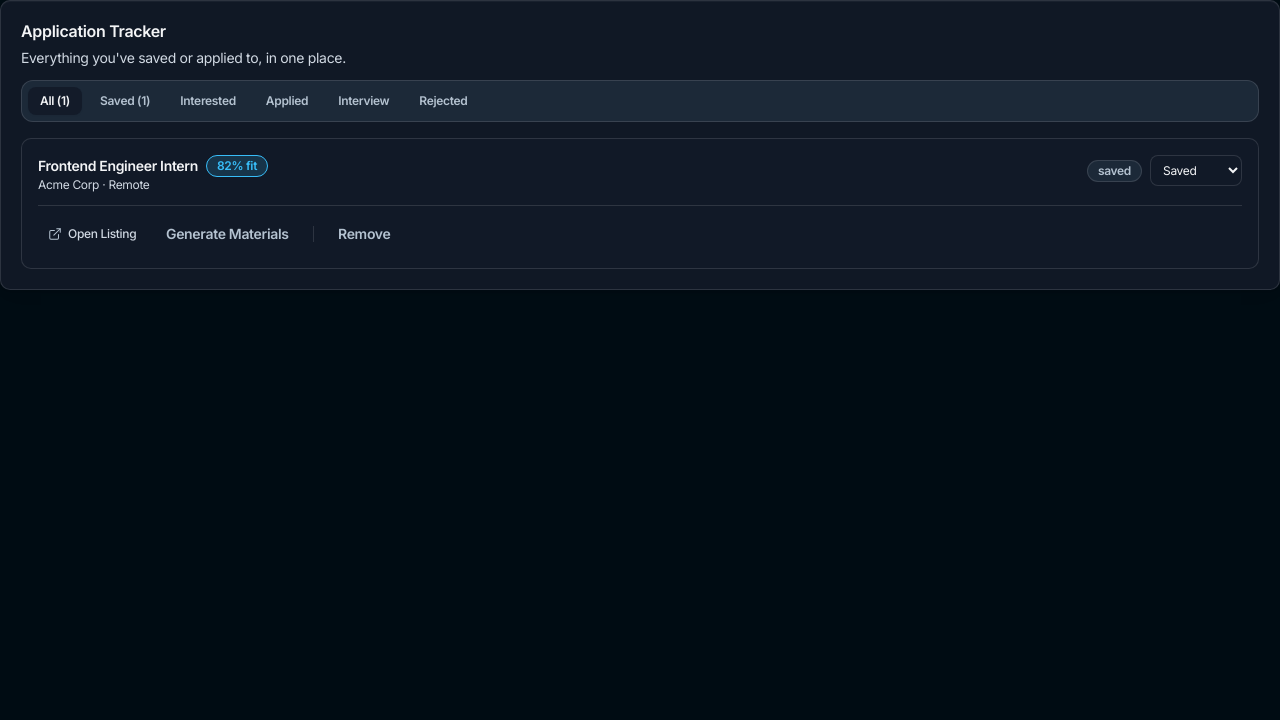
Test: JobAgentTrackerPage › shows an error toast when generating materials fails
Expected: the text "Frontend Engineer Intern" is shown, [38,156,198,176]
Click the button "Generate Materials": (228, 234) [150,216,305,252]
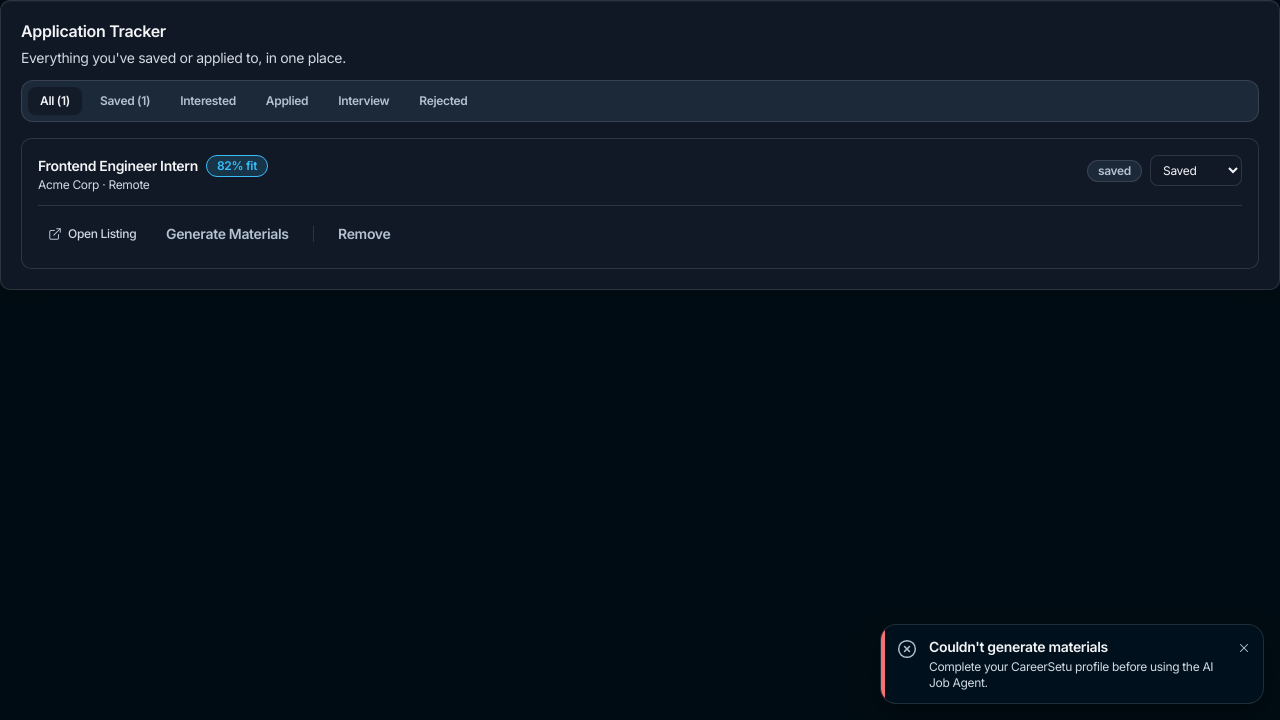
Result: the text "Couldn't generate materials" is shown at [929,638,1108,655]
